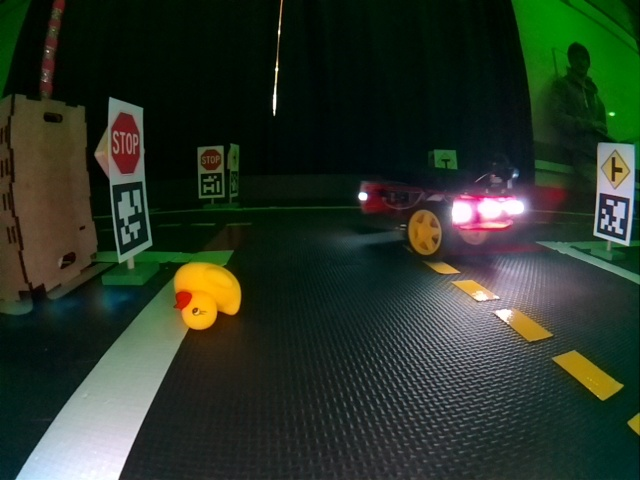Duckie: (172, 263, 240, 329)
Duckiebot: (360, 162, 526, 258)
Intersection sign: (600, 148, 629, 190), (438, 154, 455, 169), (230, 147, 239, 163)
QR code: (114, 184, 149, 253), (597, 196, 630, 241), (199, 172, 222, 196), (229, 172, 238, 194)
Stop sign: (109, 114, 141, 176), (199, 150, 222, 169)
